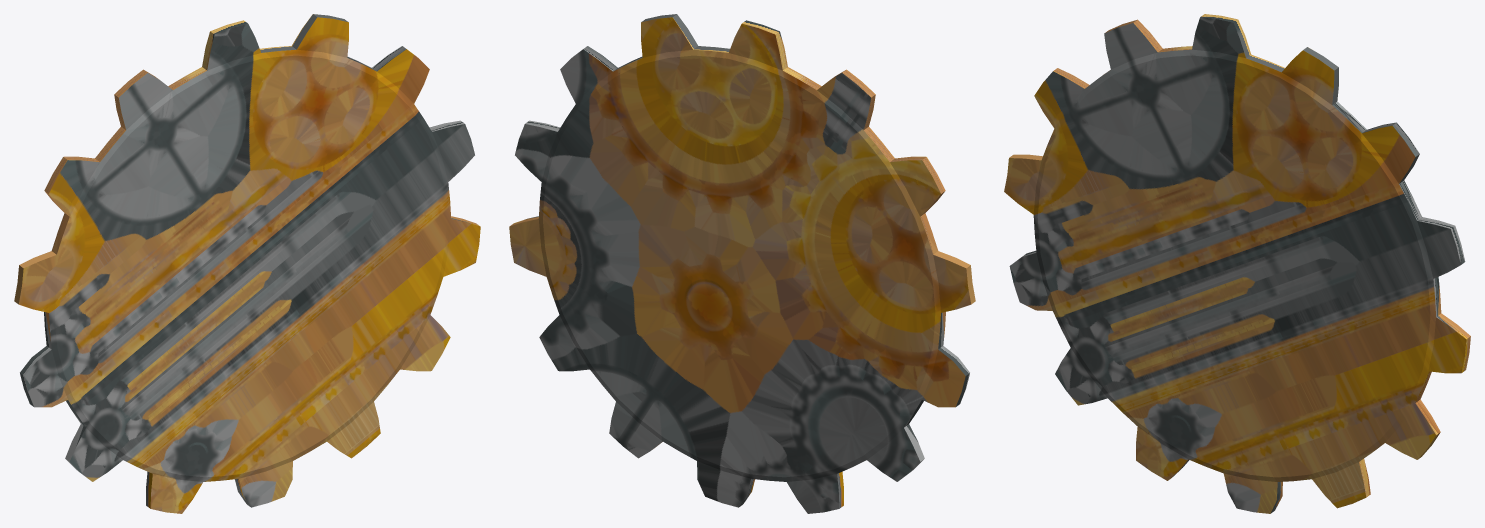
File: UI_Gear.fbx
The picture shows the model from 3 angles, left to right: view 1: azimuth 30°, elevation 25°; view 2: azimuth 150°, elevation 25°; view 3: azimuth 330°, elevation 25°; orthographic projection.
Parts seen in each view (by area): view 1: Interne.010; view 2: Interne.010; view 3: Interne.010.
Part boxes in pixels (x1,y1,x2,y2): Interne.010: (14,14,480,513); Interne.010: (509,14,975,513); Interne.010: (1004,14,1470,513).
Size of the model in its own units: 582 by 583 by 14.72.
